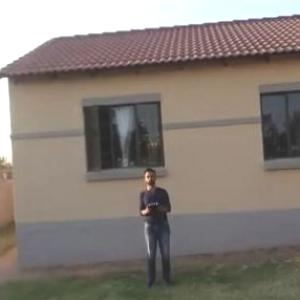follow: (138, 162, 180, 290)
